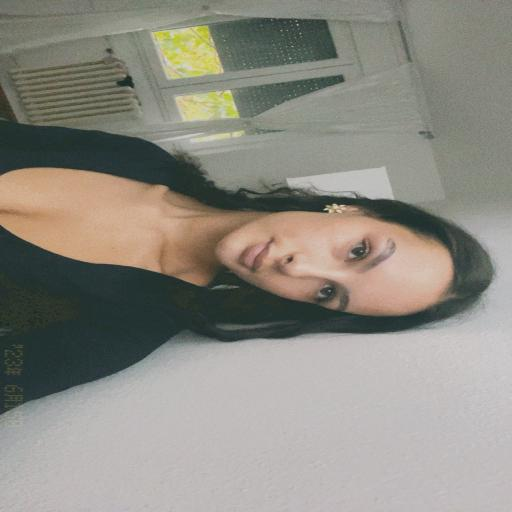marija: (215, 210, 458, 322)
